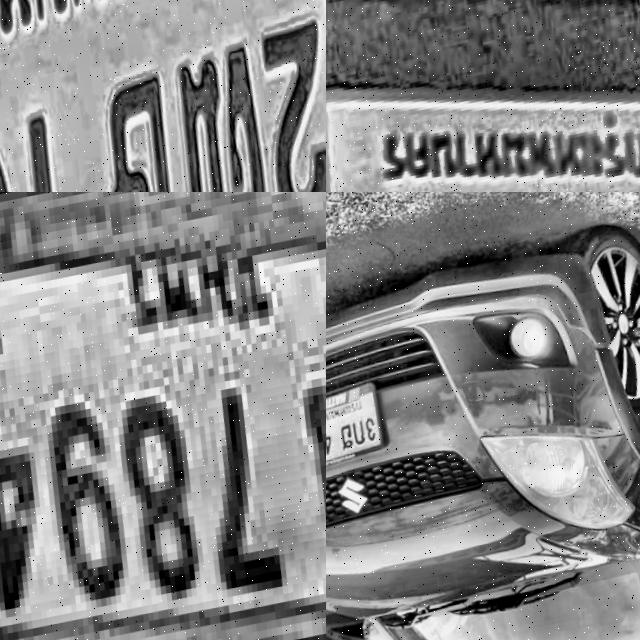license-plate: (0, 192, 326, 640), (0, 0, 326, 192), (326, 9, 640, 192), (326, 378, 395, 479)
